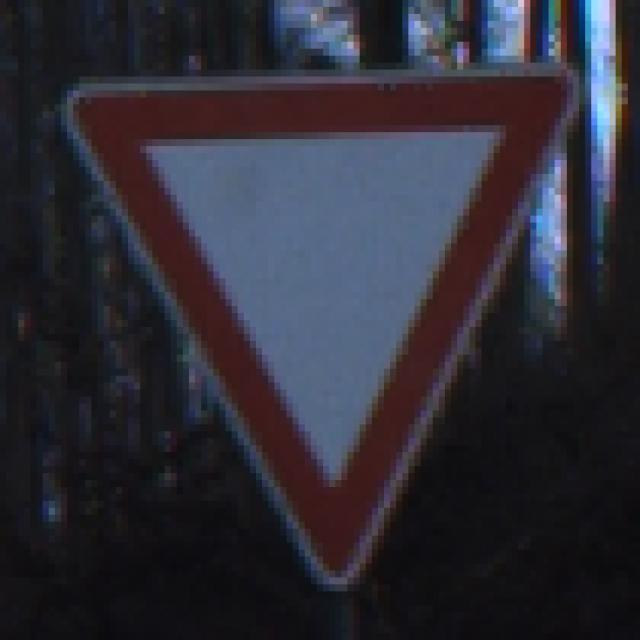give way: (66, 65, 581, 583)
